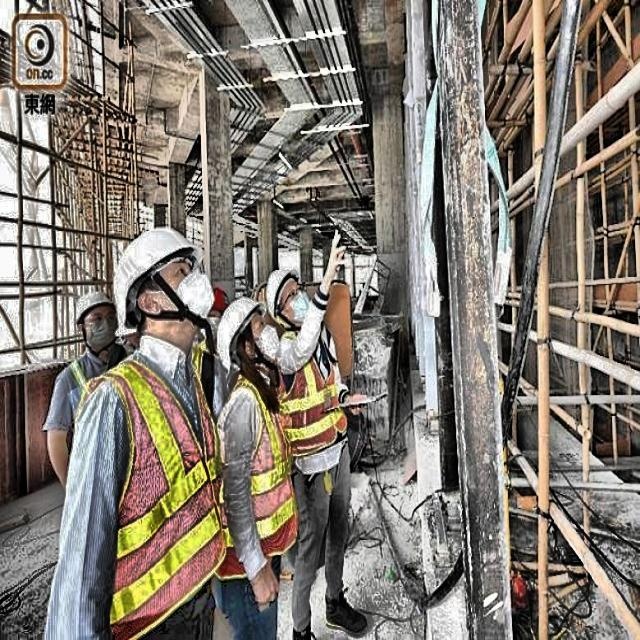safety_helmet: (111, 232, 208, 340), (210, 292, 265, 378), (263, 254, 305, 321), (64, 281, 115, 334)
safety_jacket: (72, 352, 230, 636), (223, 377, 303, 569), (48, 340, 122, 457), (286, 321, 349, 454)
